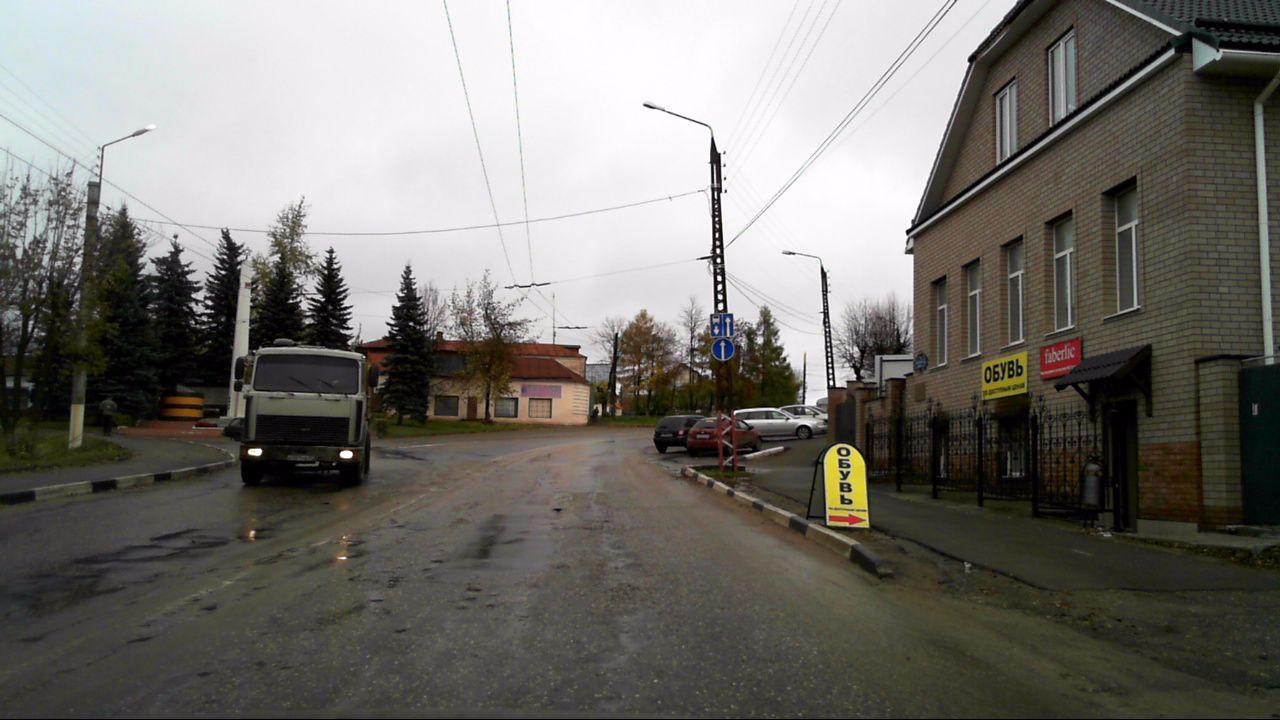4_1_1: (711, 338, 735, 362)
5_11_1: (707, 311, 735, 338)
